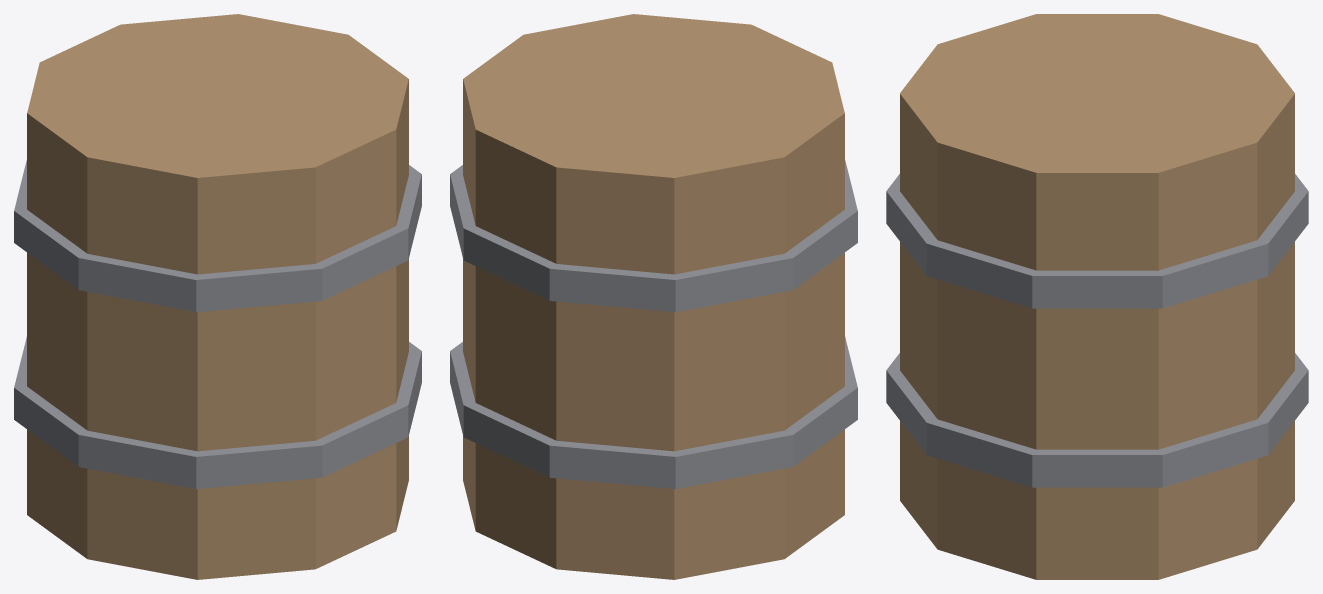
The model's file is barrel.glb.
3 views of the same model, side by side, from view 1: azimuth 30°, elevation 25°; view 2: azimuth 150°, elevation 25°; view 3: azimuth 270°, elevation 25° (orthographic).
Parts seen in each view (by area): view 1: barrel; view 2: barrel; view 3: barrel.
Part boxes in pixels (x1=…): barrel: x1=14, y1=14, x2=421, y2=579; barrel: x1=450, y1=14, x2=857, y2=579; barrel: x1=886, y1=14, x2=1308, y2=579.
Bounding box in the file's own units: 0.447 × 0.5 × 0.47.
